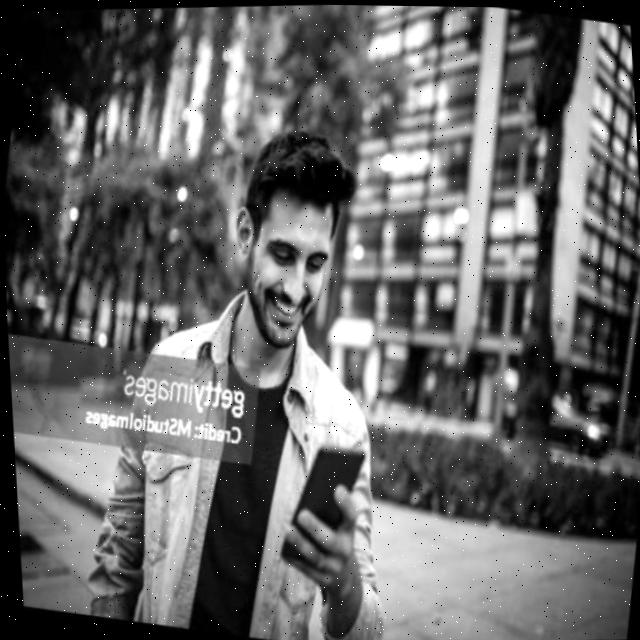phone: (271, 434, 372, 577)
